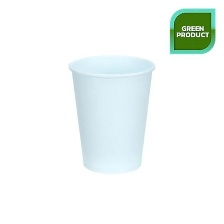paper_cup: (63, 48, 158, 177)
